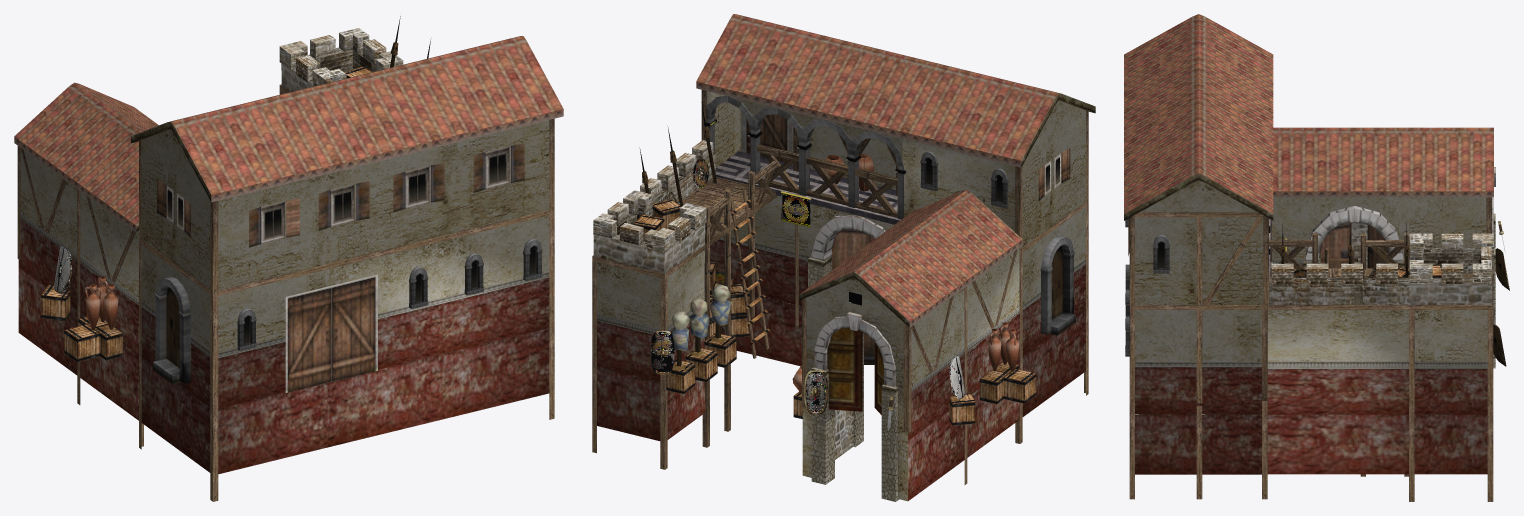
Rendered from rome_barracks.glb.
The picture shows the model from 3 angles, left to right: view 1: azimuth 30°, elevation 25°; view 2: azimuth 150°, elevation 25°; view 3: azimuth 270°, elevation 25°; orthographic projection. The views are drawn at different scales.
Visible parts, largest first — view 1: rome_barracks_part0; view 2: rome_barracks_part0; view 3: rome_barracks_part0.
Part boxes in pixels (<box>): rome_barracks_part0: <box>14,16,563,501</box>; rome_barracks_part0: <box>592,14,1095,501</box>; rome_barracks_part0: <box>1124,14,1509,501</box>.
Bounding box in the file's own units: 4 × 3.61 × 3.72.
Materials: 1 (1 with a texture image).
